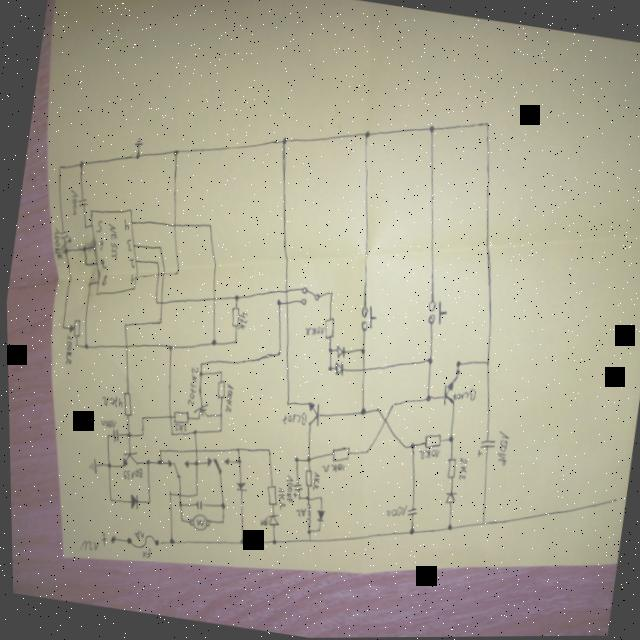capacitor: (473, 436, 495, 461), (56, 229, 72, 244), (288, 482, 301, 499), (75, 196, 89, 210), (107, 428, 119, 443), (403, 506, 416, 519), (190, 498, 202, 511)
crossover: (379, 417, 386, 424), (359, 366, 365, 373), (209, 296, 215, 303), (170, 223, 176, 230), (281, 288, 287, 295), (121, 344, 127, 350), (191, 447, 196, 454), (157, 300, 162, 307), (159, 271, 164, 277), (153, 272, 159, 277), (175, 492, 180, 498), (283, 300, 288, 306)
diode: (256, 512, 278, 529), (330, 361, 344, 379), (125, 493, 138, 511), (441, 490, 455, 506), (231, 480, 247, 493), (333, 345, 345, 361), (312, 508, 323, 523)
ground: (84, 456, 97, 475), (132, 136, 144, 149)
inductor: (299, 504, 312, 530)
junction: (279, 136, 288, 145), (165, 537, 174, 546), (427, 124, 434, 135), (208, 338, 216, 347), (357, 407, 364, 417), (77, 159, 84, 169), (324, 365, 332, 373), (274, 298, 281, 307), (423, 395, 430, 404), (424, 357, 431, 366), (407, 442, 414, 451), (405, 527, 412, 536), (443, 523, 450, 532), (445, 435, 452, 444), (362, 130, 369, 139), (172, 148, 179, 157), (217, 502, 224, 511), (236, 537, 243, 546), (61, 247, 68, 256), (133, 153, 140, 161), (81, 342, 88, 350), (123, 431, 130, 439), (164, 344, 171, 352), (231, 294, 238, 302), (174, 500, 181, 508), (268, 538, 275, 546), (358, 347, 364, 356), (325, 347, 332, 354), (372, 406, 379, 413), (482, 121, 489, 128), (55, 165, 62, 172), (303, 457, 310, 464), (233, 458, 240, 465), (232, 446, 239, 453), (189, 429, 196, 436), (190, 459, 197, 466), (154, 459, 161, 466), (103, 461, 110, 468), (303, 528, 310, 535), (195, 370, 202, 377), (190, 490, 197, 497), (453, 360, 459, 368), (274, 350, 280, 358), (137, 415, 143, 422), (263, 447, 269, 454), (291, 456, 297, 463), (215, 428, 221, 435), (143, 458, 149, 465), (164, 490, 170, 497), (302, 494, 308, 501), (216, 369, 222, 376), (173, 269, 178, 277), (215, 412, 221, 418), (283, 400, 288, 407), (327, 290, 332, 297), (389, 402, 394, 409), (362, 449, 367, 456), (483, 361, 488, 368), (80, 246, 85, 253), (165, 414, 170, 421), (156, 319, 161, 326), (152, 299, 157, 306), (156, 245, 161, 252), (206, 222, 211, 229), (155, 448, 160, 455), (143, 499, 148, 506), (106, 496, 111, 503), (218, 519, 223, 526), (478, 520, 483, 527), (197, 360, 202, 367), (153, 259, 158, 266), (103, 432, 108, 439), (401, 445, 406, 451), (82, 225, 87, 231), (82, 262, 87, 268), (85, 282, 91, 287), (138, 432, 143, 438), (121, 322, 126, 328), (231, 339, 236, 345), (304, 538, 310, 543), (316, 495, 321, 501), (294, 495, 299, 501), (72, 343, 77, 349), (177, 518, 182, 523), (314, 528, 318, 533), (168, 432, 172, 436)
resistor: (57, 317, 81, 339), (327, 445, 349, 466), (118, 390, 134, 418), (420, 431, 440, 452), (261, 483, 277, 508), (320, 316, 335, 341), (226, 305, 240, 328), (442, 456, 455, 480), (170, 409, 189, 425), (299, 469, 313, 488), (213, 380, 225, 400)
switch: (355, 303, 378, 335), (423, 298, 447, 328), (201, 453, 229, 476), (161, 457, 187, 481), (297, 286, 320, 309)
terminal: (106, 534, 115, 545), (608, 497, 616, 505)
text: (76, 528, 106, 556), (101, 223, 122, 261), (491, 430, 509, 467), (47, 226, 66, 260), (183, 365, 198, 406), (278, 407, 306, 428), (59, 335, 75, 367), (279, 473, 295, 504), (449, 385, 475, 404), (221, 382, 234, 415), (65, 188, 80, 216), (317, 460, 343, 476), (120, 465, 142, 483), (382, 503, 405, 520), (414, 447, 439, 462), (97, 393, 122, 408), (453, 457, 467, 482), (272, 486, 286, 511), (302, 323, 324, 338), (234, 310, 247, 331), (309, 470, 319, 492), (97, 417, 114, 429), (129, 528, 142, 542), (171, 422, 185, 434), (138, 547, 150, 560), (292, 506, 305, 518), (93, 219, 103, 234), (121, 218, 130, 232), (97, 257, 106, 270), (123, 238, 131, 252), (126, 257, 135, 269), (99, 274, 107, 287), (96, 239, 103, 252), (127, 273, 134, 284)
transistor: (439, 375, 457, 408), (302, 400, 320, 429), (190, 401, 209, 421), (118, 449, 137, 469)
